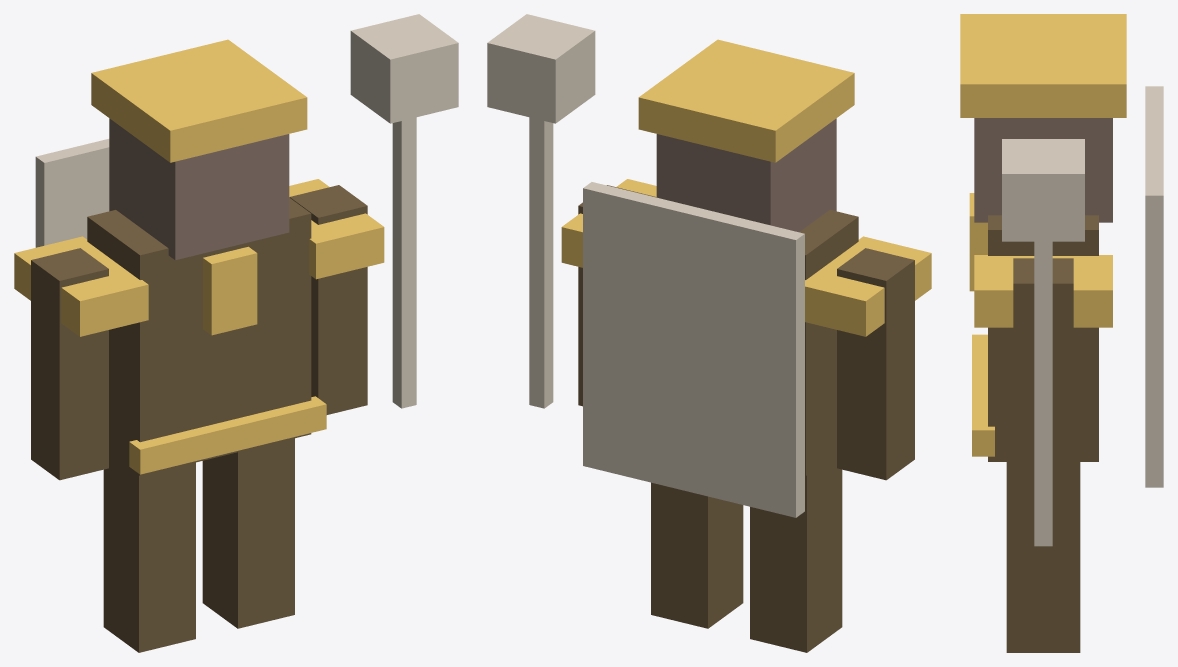
Rendered from 10_kiva_signalborn_operator_near.glb.
The picture shows the model from 3 angles, left to right: view 1: azimuth 30°, elevation 25°; view 2: azimuth 150°, elevation 25°; view 3: azimuth 270°, elevation 25°; orthographic projection. The views are drawn at different scales.
Visible parts, largest first — view 1: Kiva Signalborn, Operator near; view 2: Kiva Signalborn, Operator near; view 3: Kiva Signalborn, Operator near.
Boxes of the visible parts, x1,y1,x2,y2 form: Kiva Signalborn, Operator near: (14,14,458,652); Kiva Signalborn, Operator near: (487,14,931,652); Kiva Signalborn, Operator near: (960,14,1163,652).
Bounding box in the file's own units: 1.1 × 1.43 × 0.4662.
